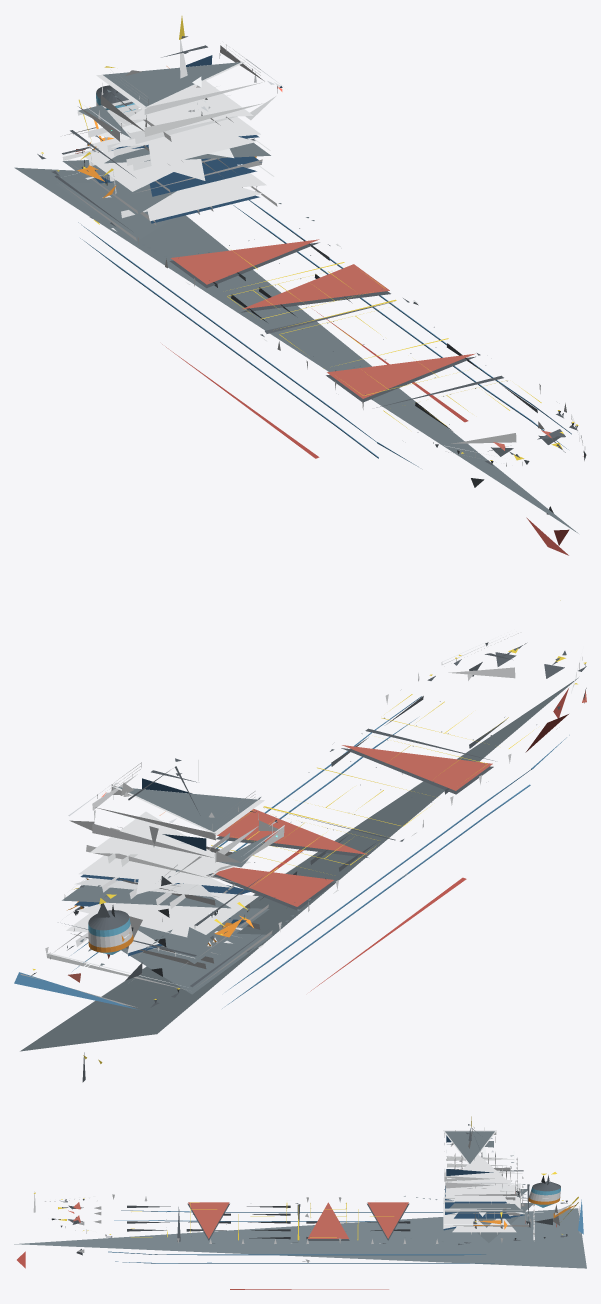
File: ship_08.glb
The picture shows the model from 3 angles, top to bottom: view 1: azimuth 30°, elevation 25°; view 2: azimuth 150°, elevation 25°; view 3: azimuth 270°, elevation 25°; orthographic projection. The views are drawn at different scales.
Parts seen in each view (by area): view 1: TrueHelm_Ship_08; view 2: TrueHelm_Ship_08; view 3: TrueHelm_Ship_08.
Part boxes in pixels (bbox=[...]): TrueHelm_Ship_08: bbox=[14, 16, 586, 555]; TrueHelm_Ship_08: bbox=[14, 600, 586, 1082]; TrueHelm_Ship_08: bbox=[14, 1116, 586, 1289].
Bounding box in the file's own units: 0.1327 × 0.2033 × 0.6672.
